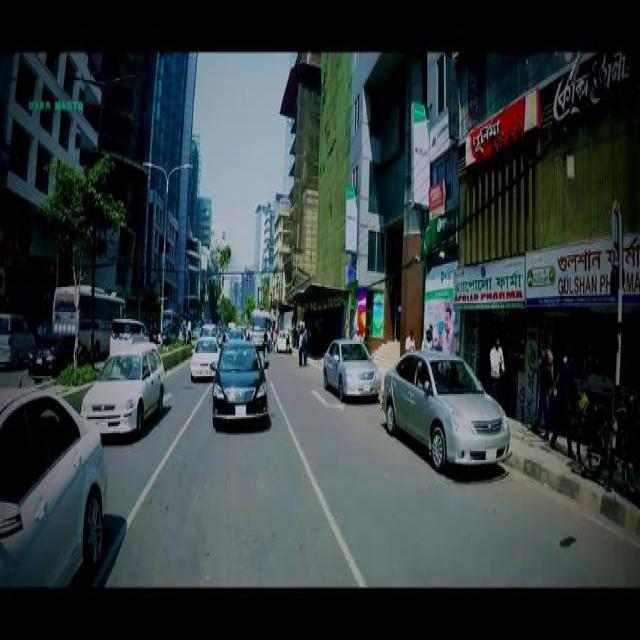bus: (51, 280, 126, 349), (249, 305, 269, 342)
car: (1, 382, 108, 584), (381, 348, 509, 469), (79, 340, 163, 432), (210, 337, 268, 421), (322, 335, 381, 398), (27, 331, 89, 377), (188, 334, 218, 377), (274, 329, 290, 347)
minivan: (108, 315, 148, 343)
